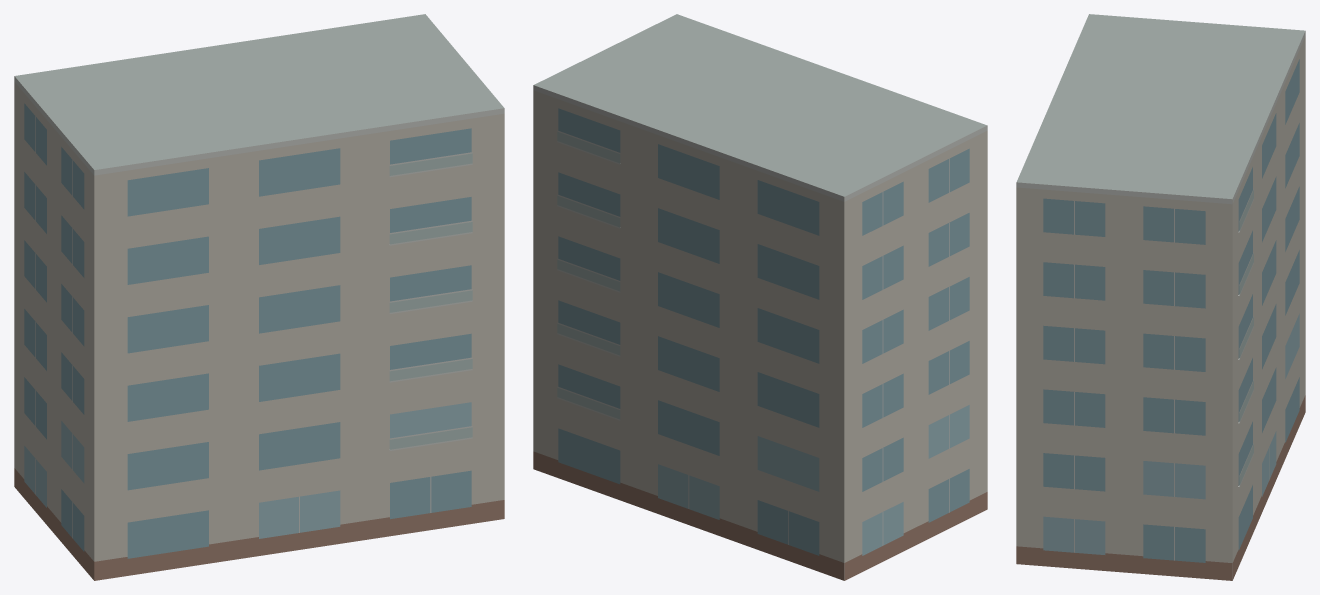
The model's file is survey-upis-32635510.glb.
3 views of the same model, side by side, from view 1: azimuth 30°, elevation 25°; view 2: azimuth 150°, elevation 25°; view 3: azimuth 270°, elevation 25° (orthographic). The views are drawn at different scales.
Parts seen in each view (by area): view 1: survey-upis-32635510.tmp; view 2: survey-upis-32635510.tmp; view 3: survey-upis-32635510.tmp.
Boxes of the visible parts, x1,y1,x2,y2 form: survey-upis-32635510.tmp: [14, 14, 504, 580]; survey-upis-32635510.tmp: [533, 14, 987, 580]; survey-upis-32635510.tmp: [1016, 14, 1305, 580].
Size of the model in its own units: 19.05 by 18.3 by 12.57.
